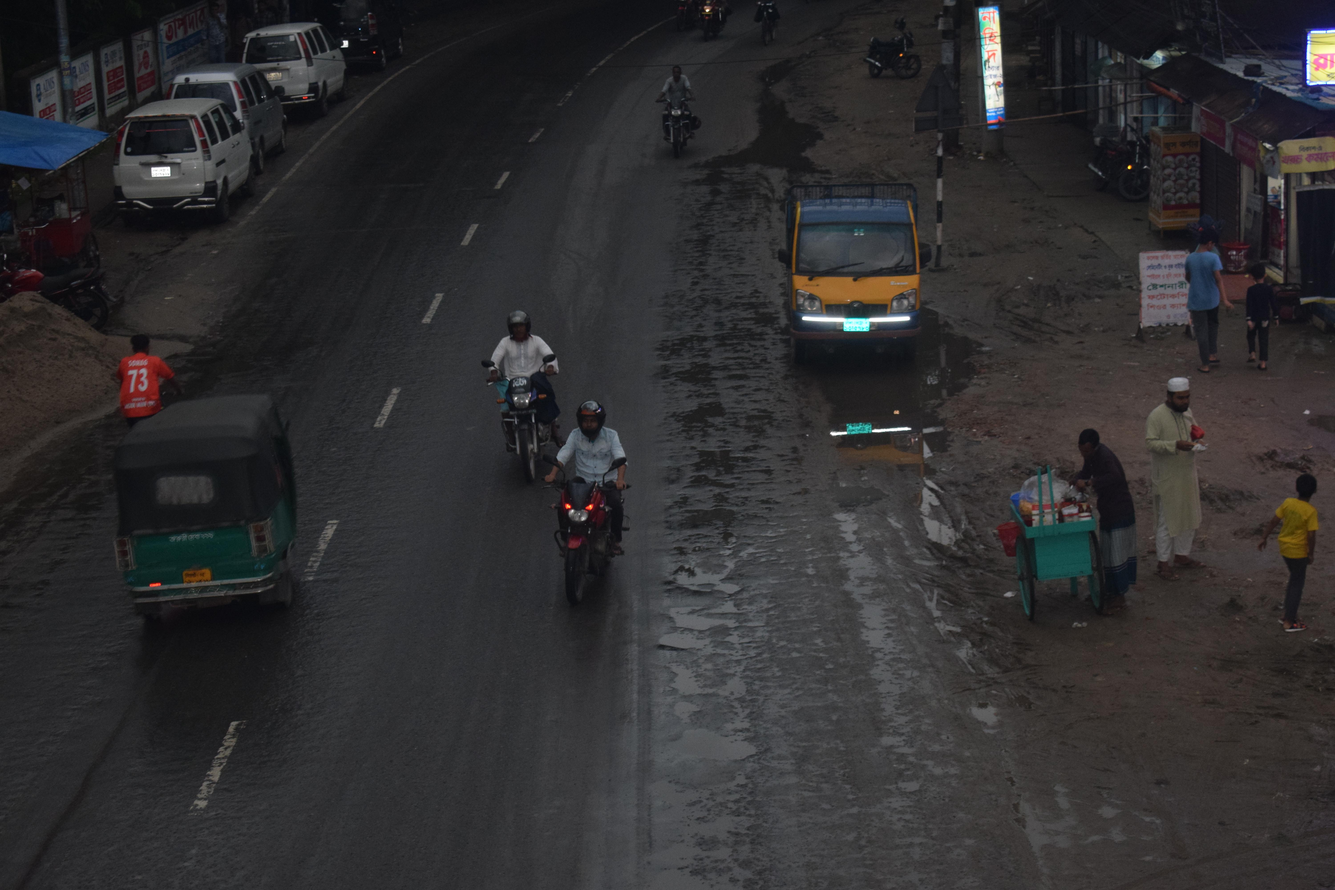Bike: (526, 380, 651, 637), (456, 288, 583, 520), (640, 50, 726, 186), (841, 17, 949, 99)
Car: (92, 90, 261, 245), (228, 11, 355, 138)
Truck: (754, 168, 947, 394)
